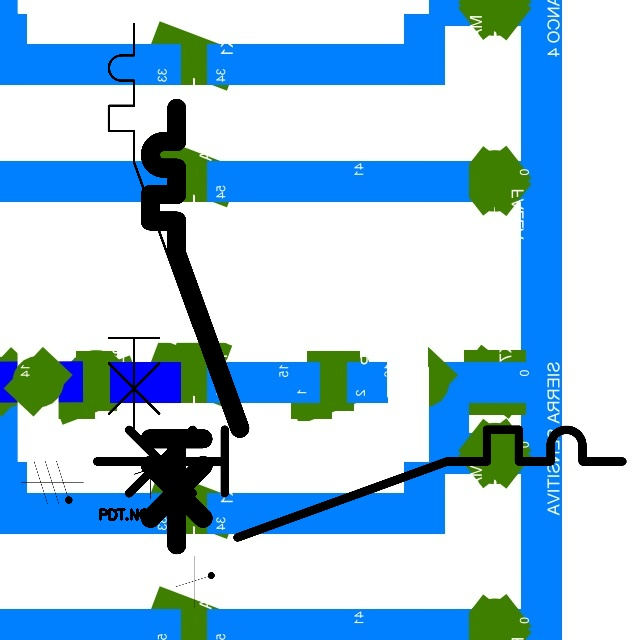interruptor_termomagnetico: (83, 416, 635, 551), (139, 97, 251, 556), (98, 13, 205, 450)
